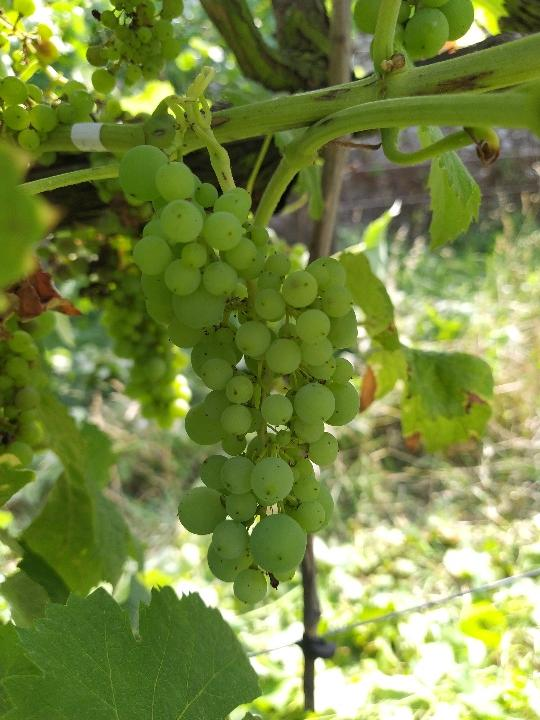grape: (117, 143, 361, 606)
